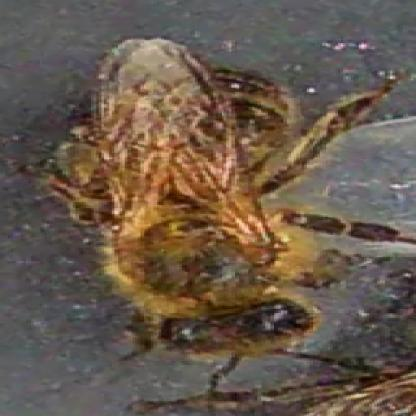bee: (74, 39, 334, 355)
